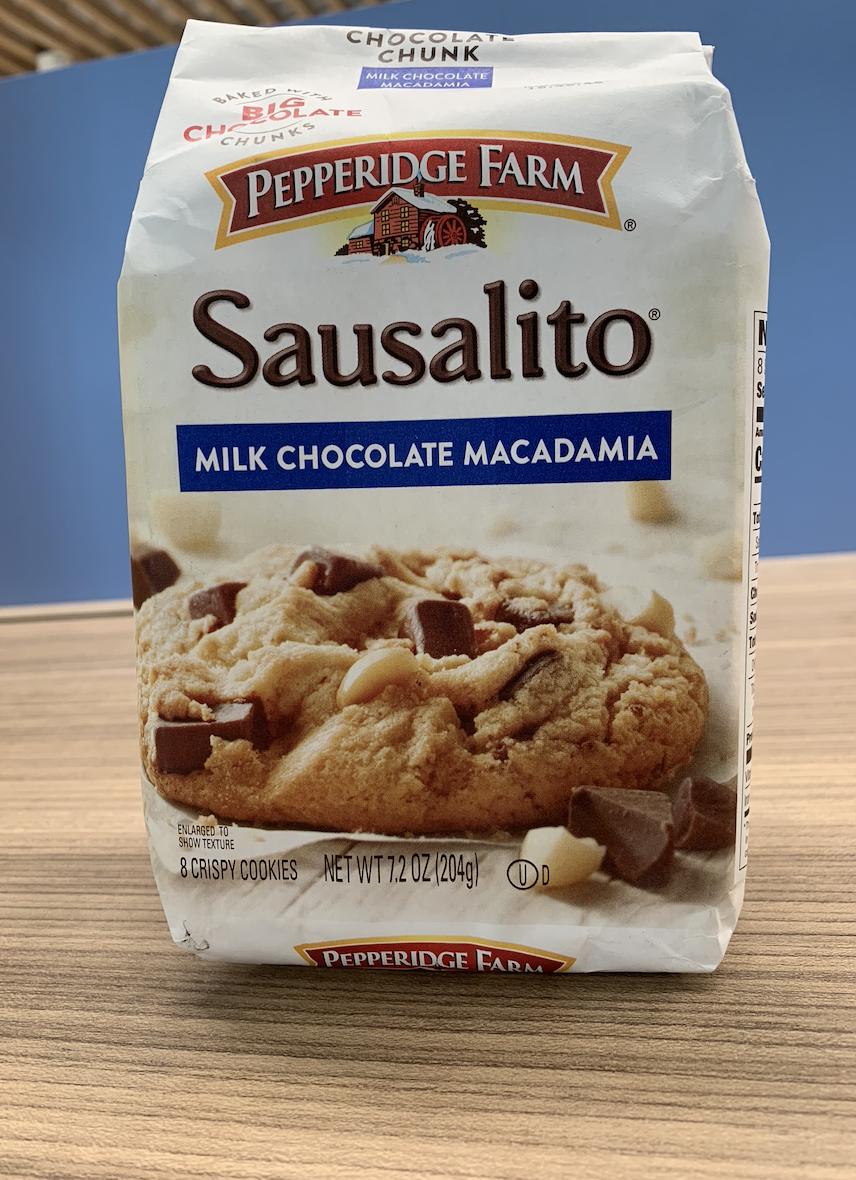cookies_150g: (175, 70, 691, 938)
